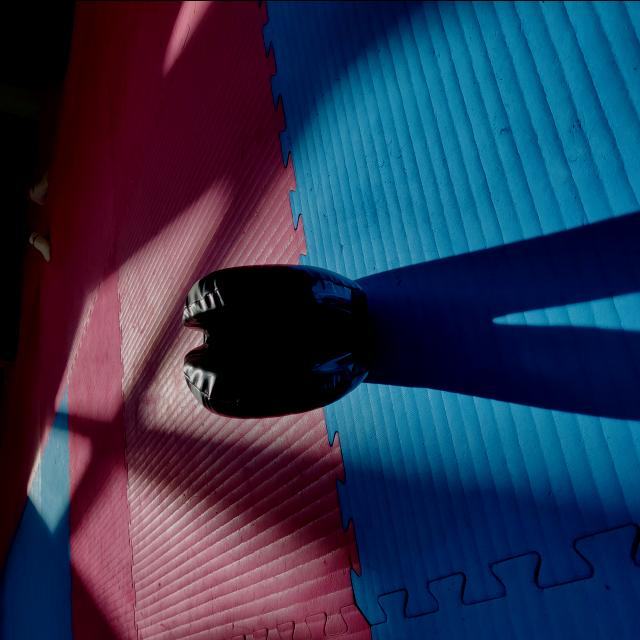paddle: (180, 261, 374, 420)
